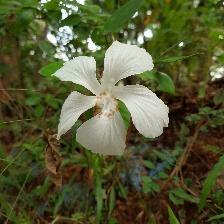hibiscus: (55, 40, 171, 157)
